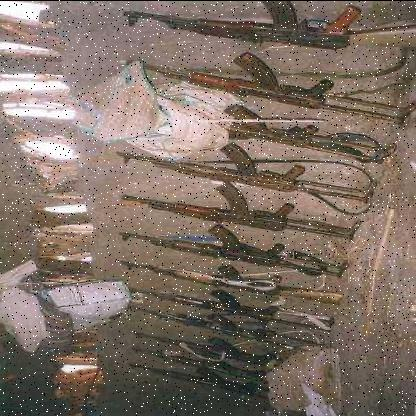rifle: (115, 43, 415, 129), (111, 143, 385, 214), (125, 179, 377, 250), (108, 1, 415, 52), (122, 247, 351, 311), (119, 221, 352, 282), (129, 298, 330, 360), (227, 101, 398, 172), (128, 281, 343, 337)
